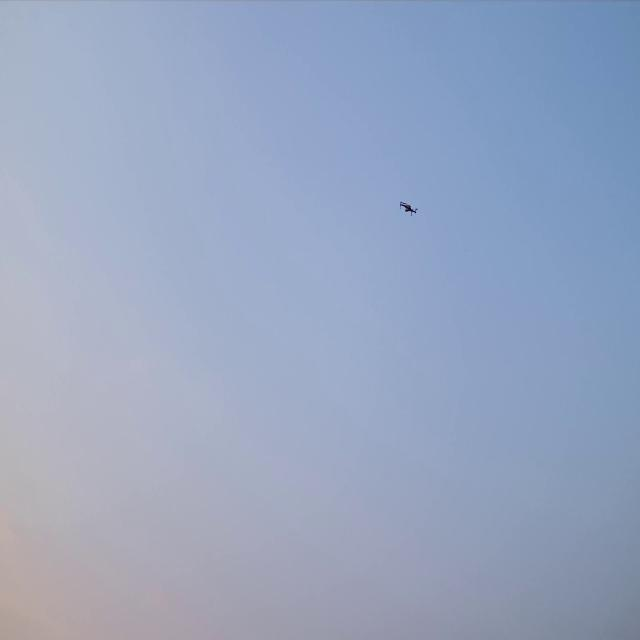UAV: (400, 202, 416, 214)
